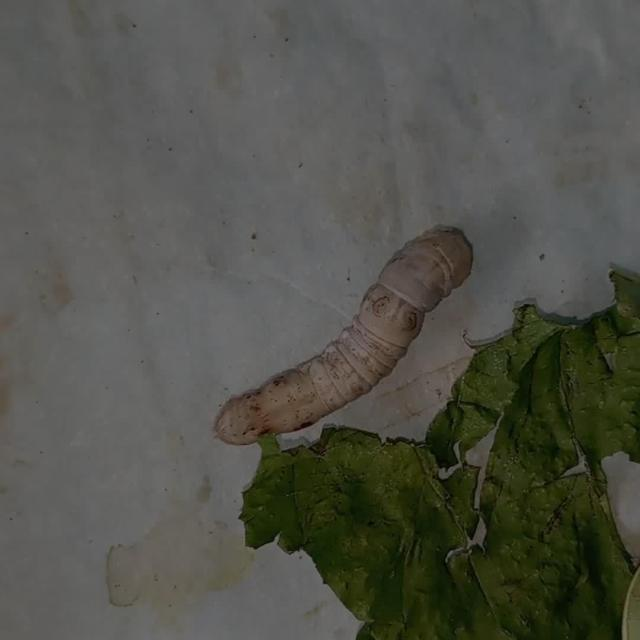Grasserie: (201, 213, 479, 454)
